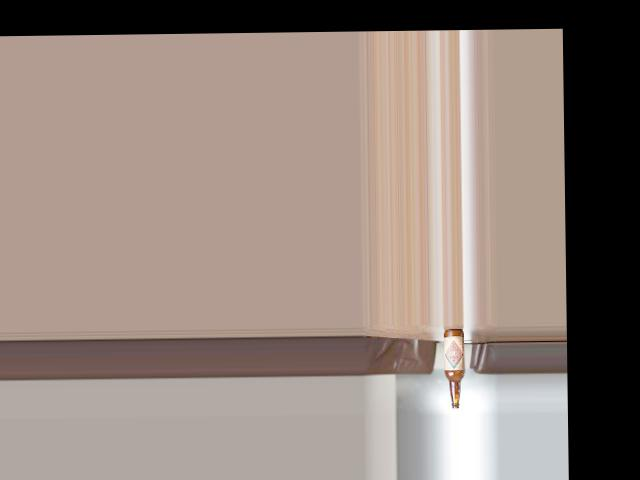beer: (445, 328, 465, 407)
